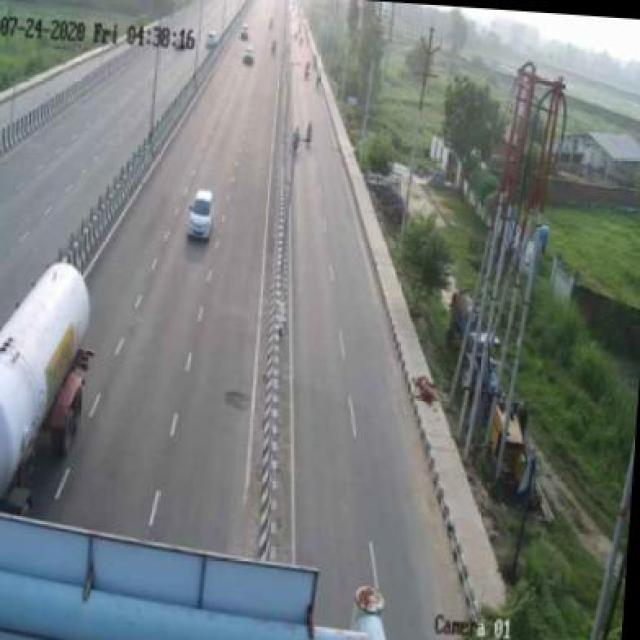car: (172, 185, 228, 253)
